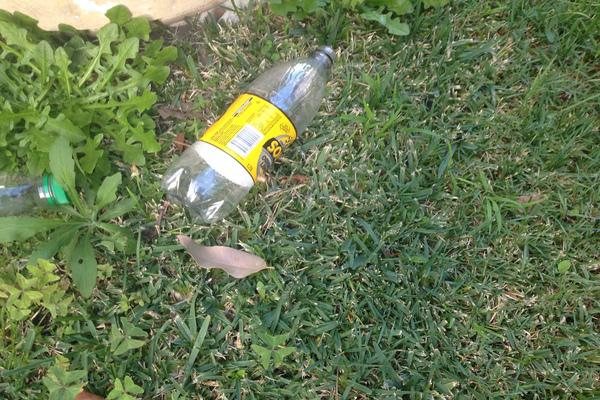Plastic Bottle: (161, 45, 335, 226), (0, 167, 72, 211)
